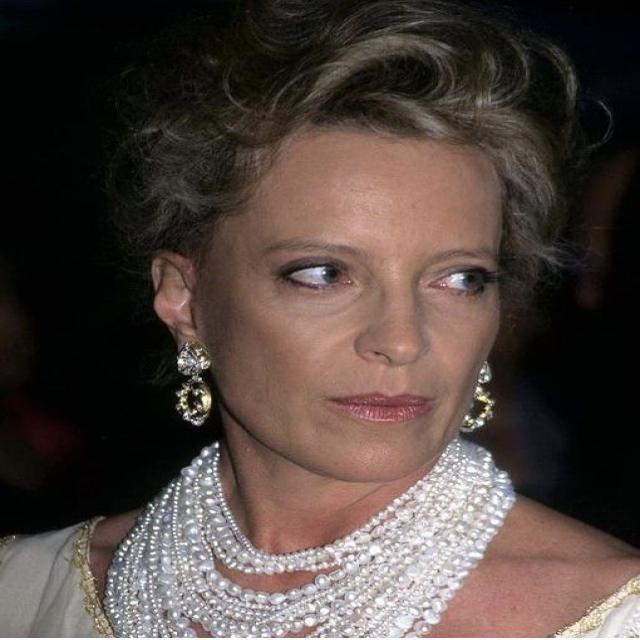Earring: (164, 330, 223, 440), (455, 342, 503, 450)
